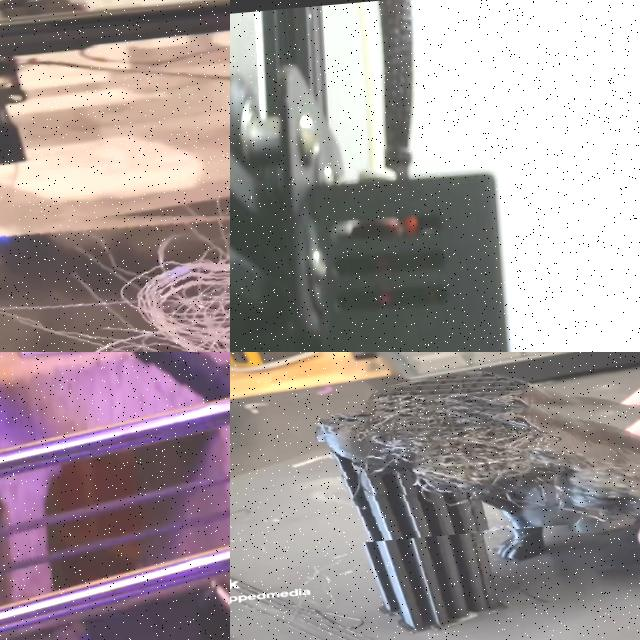spaghetti: (314, 371, 640, 545), (0, 159, 230, 352)
